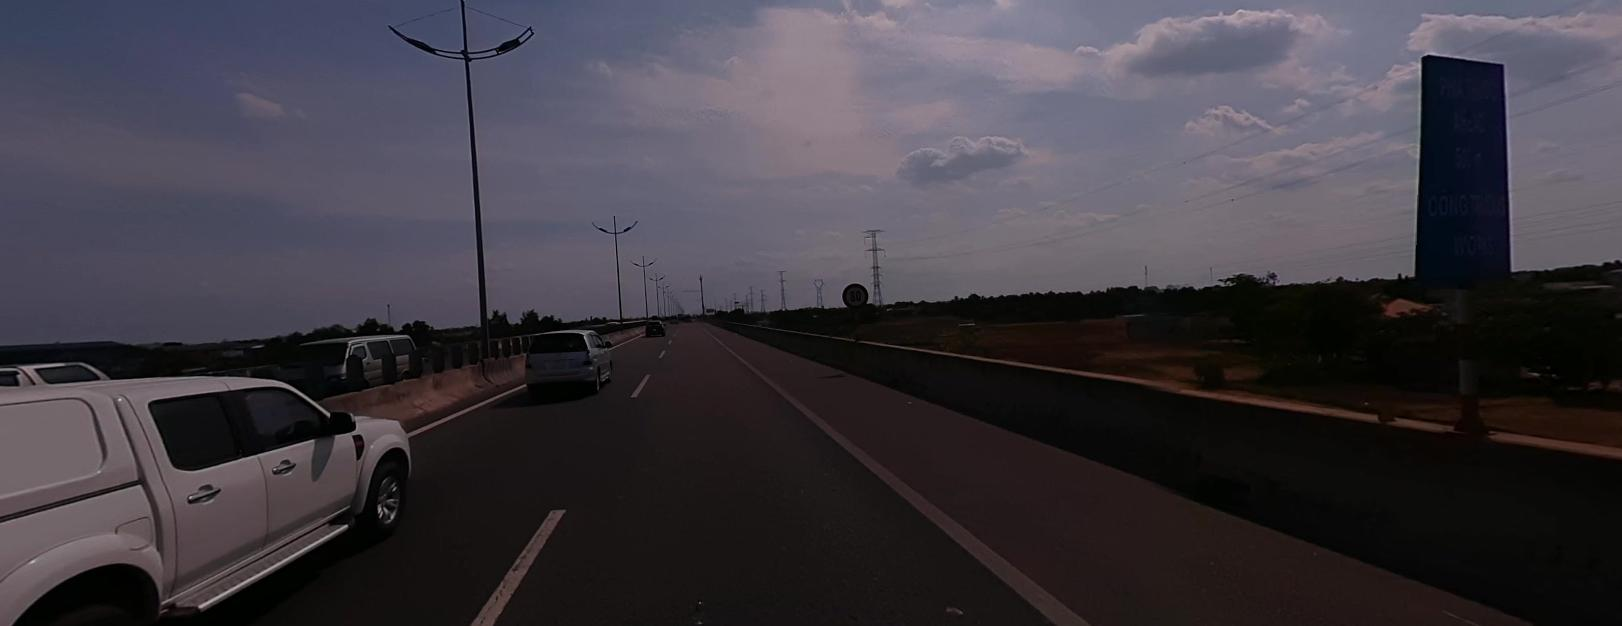Gioi han toc do: (841, 280, 869, 306)
